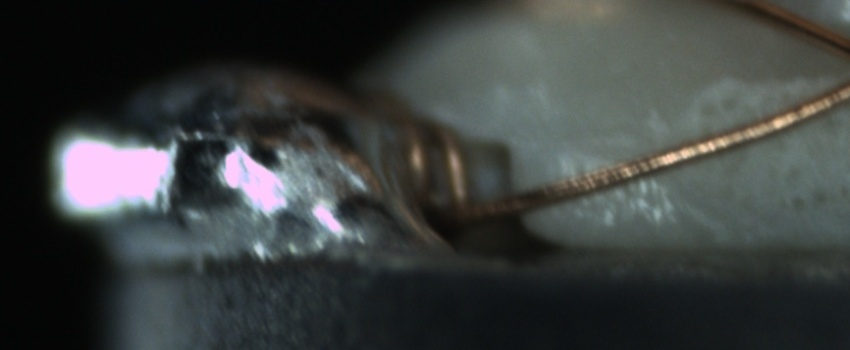DL: (552, 124, 672, 178)
TE: (380, 94, 479, 226)
